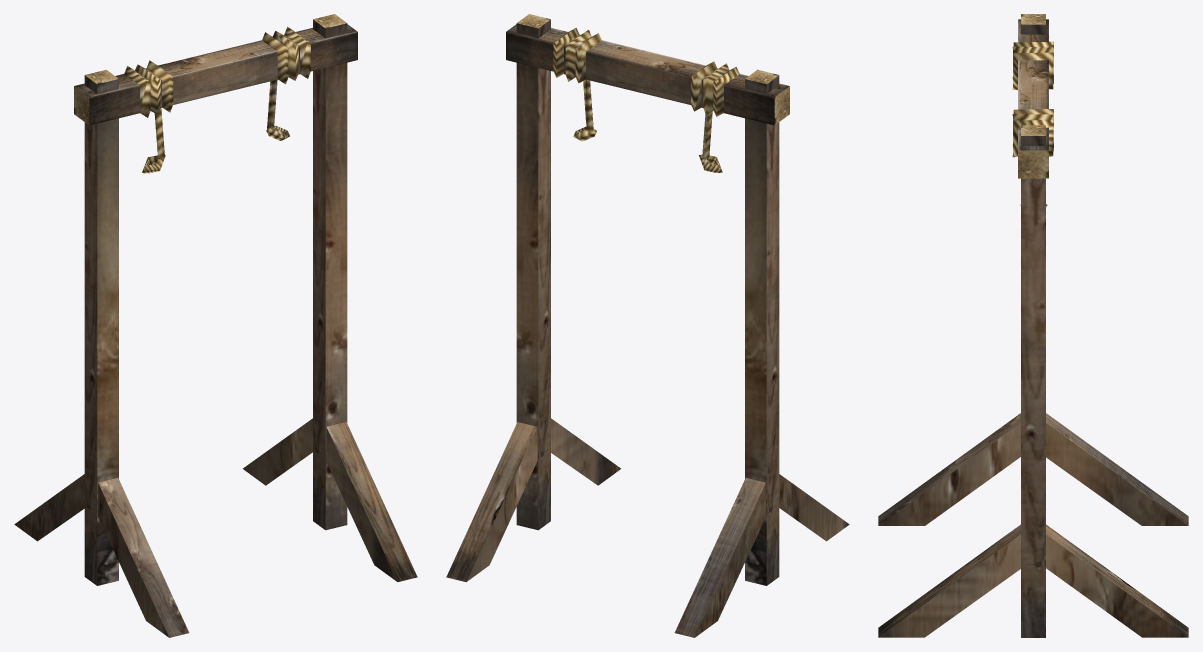
The model's file is building_torture_flogging.glb.
The picture shows the model from 3 angles, left to right: view 1: azimuth 30°, elevation 25°; view 2: azimuth 150°, elevation 25°; view 3: azimuth 270°, elevation 25°; orthographic projection.
Visible parts, largest first — view 1: building_torture_flogging; view 2: building_torture_flogging; view 3: building_torture_flogging.
Part boxes in pixels (x1,y1,x2,y2): building_torture_flogging: [14, 14, 417, 637]; building_torture_flogging: [446, 14, 849, 637]; building_torture_flogging: [878, 14, 1188, 637].
Bounding box in the file's own units: 2 × 3.57 × 2.
Materials: 2 (2 with a texture image).
